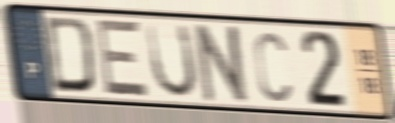2: (300, 28, 350, 112)
C: (251, 28, 293, 104)
D: (43, 14, 98, 97)
E: (95, 16, 152, 100)
N: (193, 21, 253, 107)
U: (144, 20, 200, 101)
